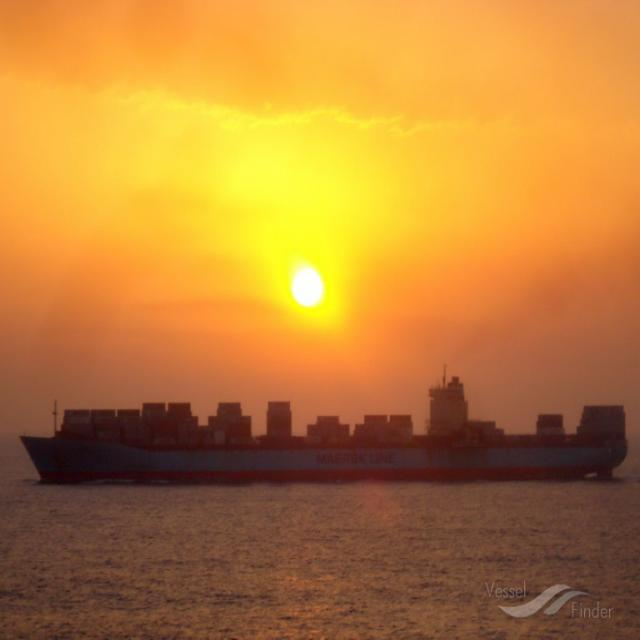Container Ship: (21, 376, 632, 482)
